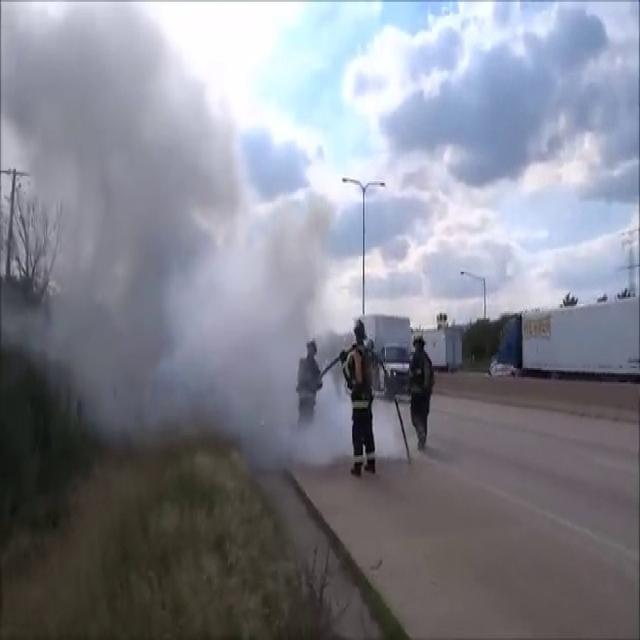Smoke: (31, 2, 346, 468)
